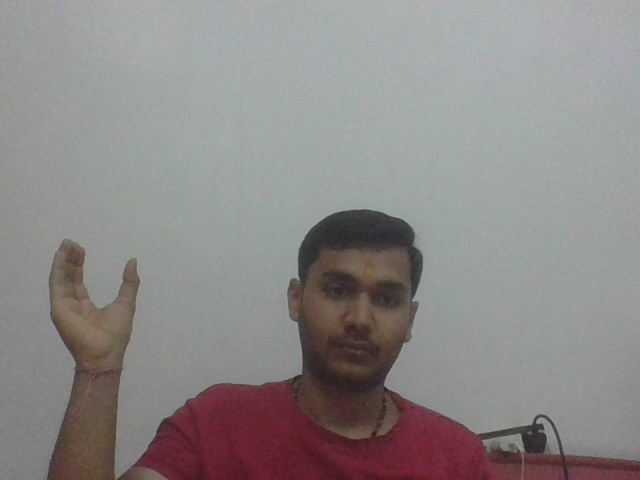U: (43, 236, 148, 367)
